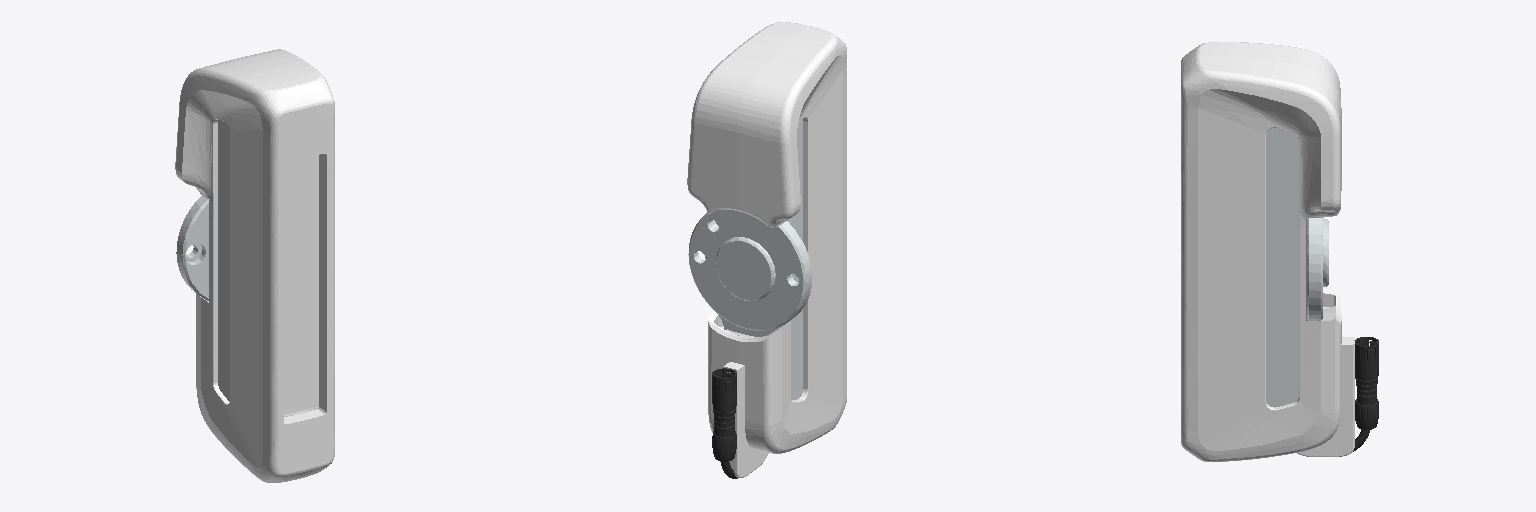
File: hand.obj
3 renders of one model, left to right at view 1: azimuth 30°, elevation 25°; view 2: azimuth 150°, elevation 25°; view 3: azimuth 270°, elevation 25°, orthographic.
Visible parts, largest first — view 1: obj2, obj5, obj1; view 2: obj2, obj1, obj3, obj5; view 3: obj2, obj5, obj1, obj3.
Boxes of the visible parts, x1,y1,x2,y2 form: obj2: [175, 49, 334, 482]; obj5: [218, 120, 229, 401]; obj1: [176, 195, 208, 300]; obj2: [687, 22, 846, 477]; obj1: [688, 210, 811, 336]; obj3: [712, 368, 736, 461]; obj5: [791, 119, 802, 399]; obj2: [1181, 42, 1354, 461]; obj5: [1266, 128, 1298, 407]; obj1: [1306, 217, 1328, 320]; obj3: [1355, 337, 1378, 429].
Bounding box in the file's own units: 0.063 × 0.2045 × 0.0919.